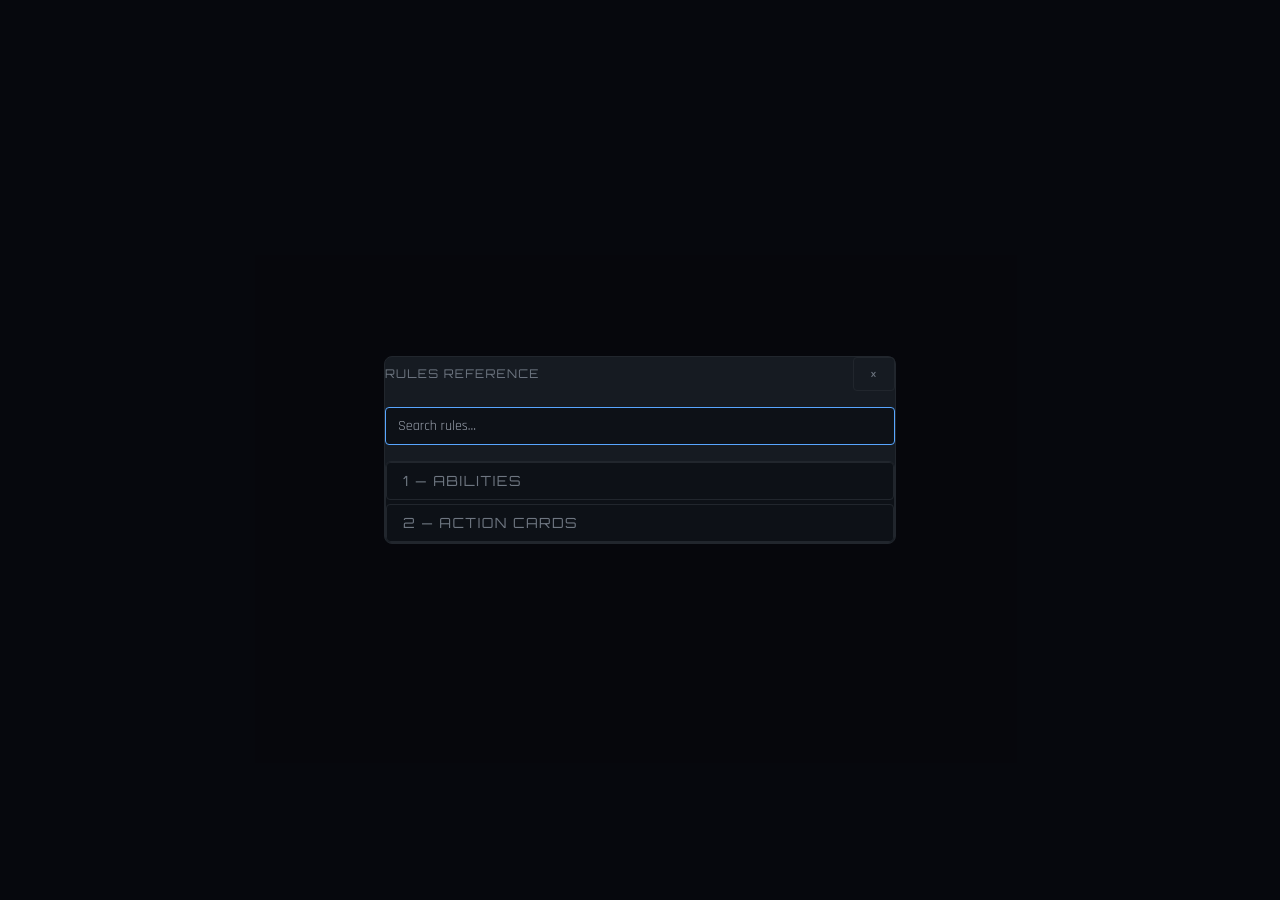
RulesModal › clicking a section expands its body
The width and height of the screenshot is (1280, 900).
Click the button with test id "section-1": (478, 480) [386,462,894,500]
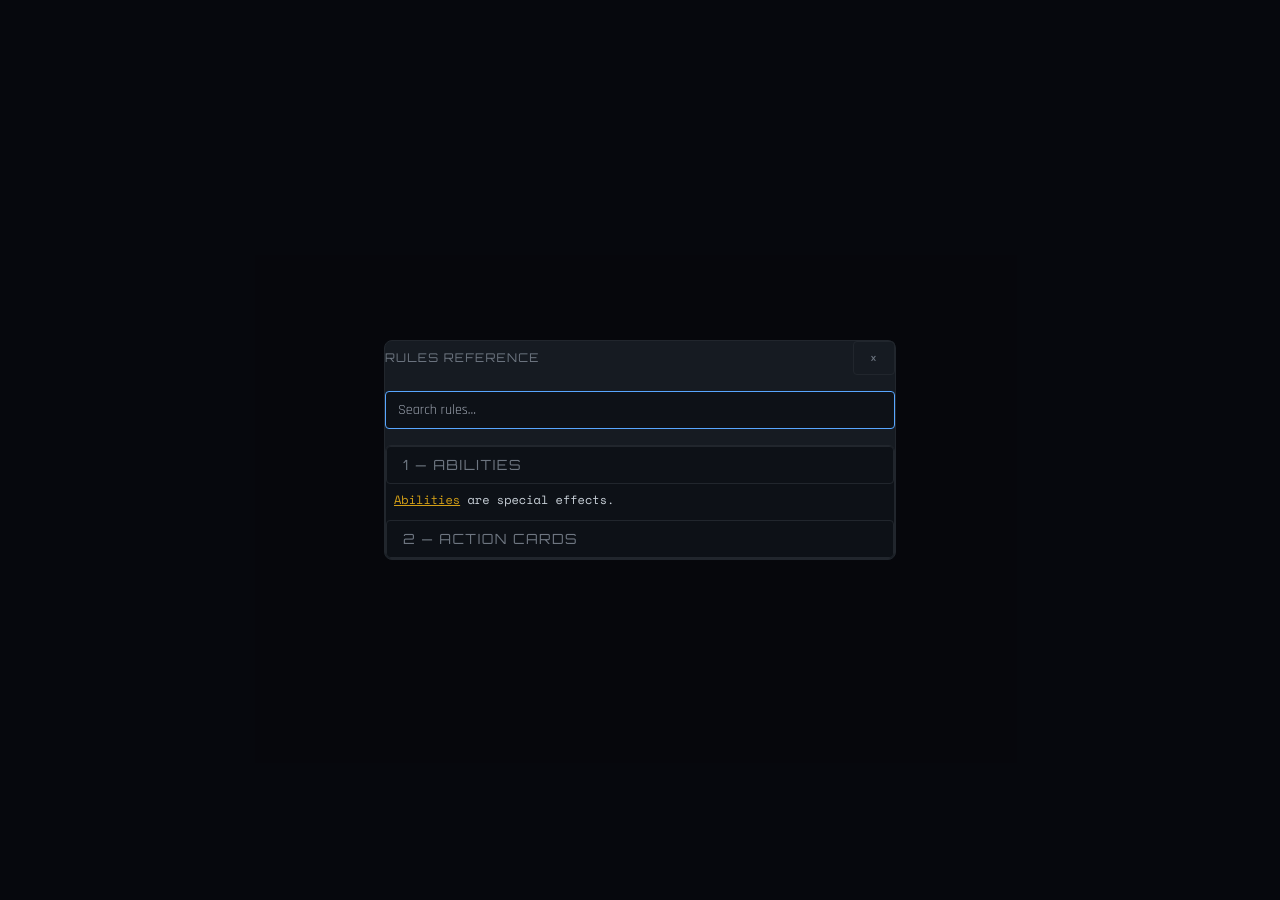
expect the element with test id "body-1" is shown: met, box [394,491,614,508]
